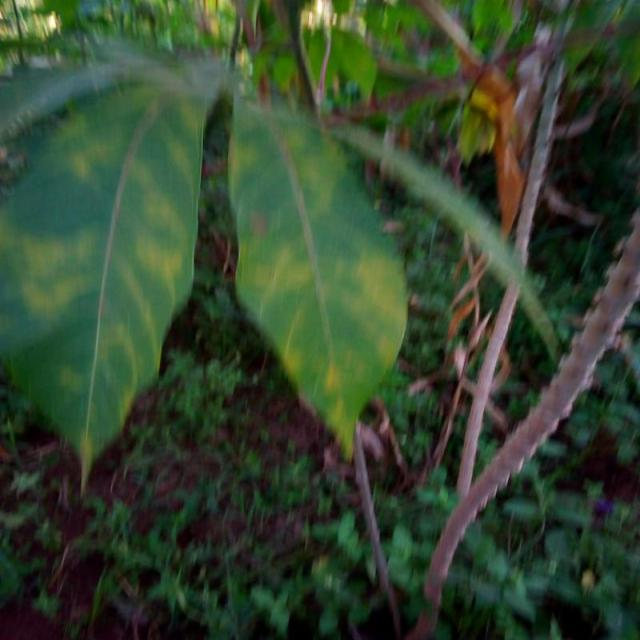cassava leaf: (0, 45, 217, 495), (226, 80, 410, 463)
